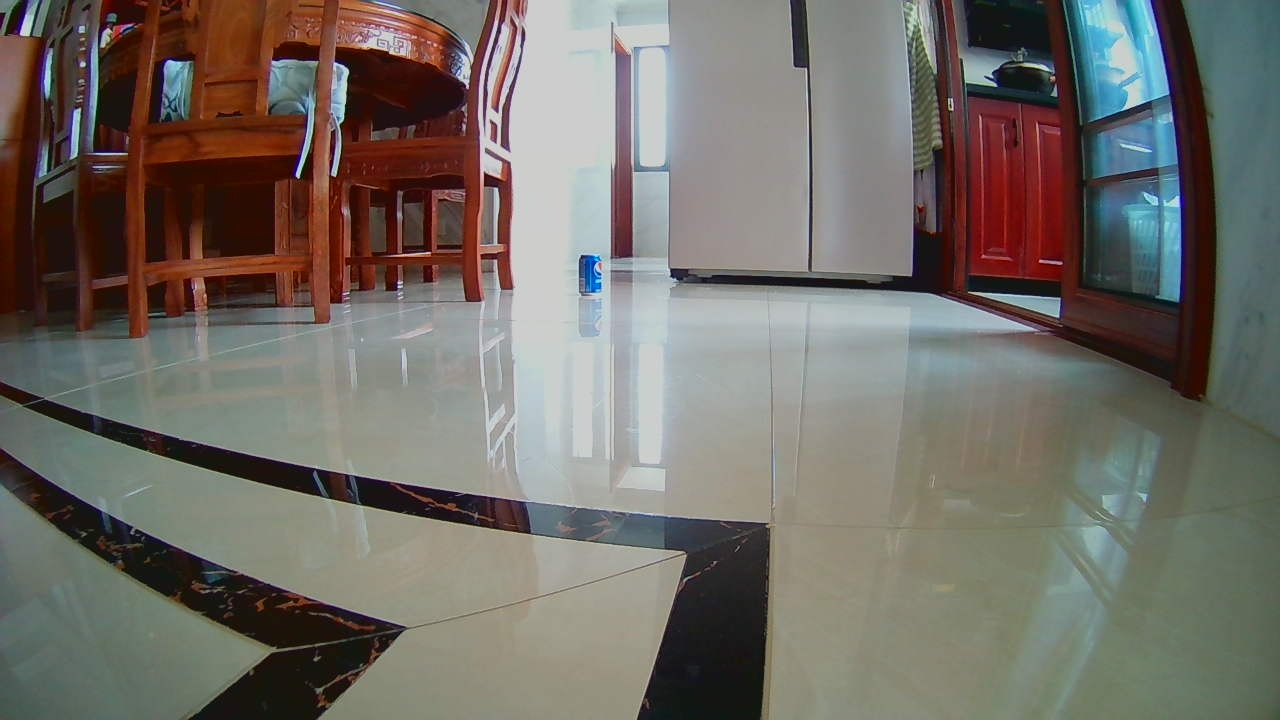pessi: (577, 253, 601, 295)
